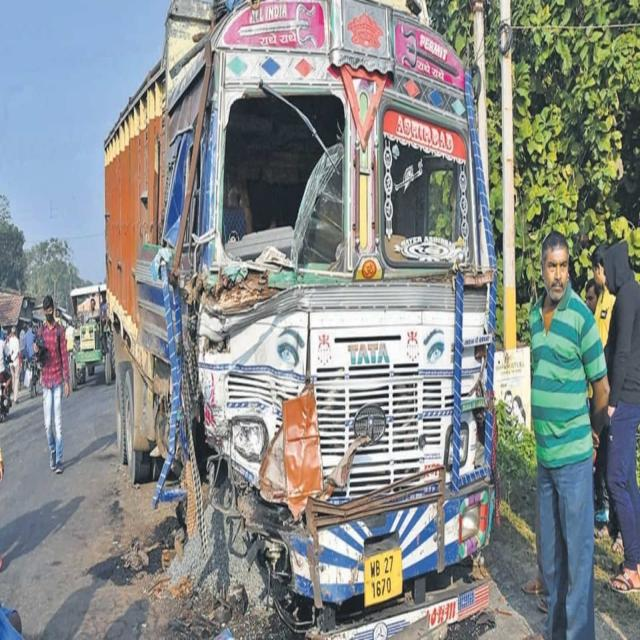accident: (105, 0, 498, 634)
